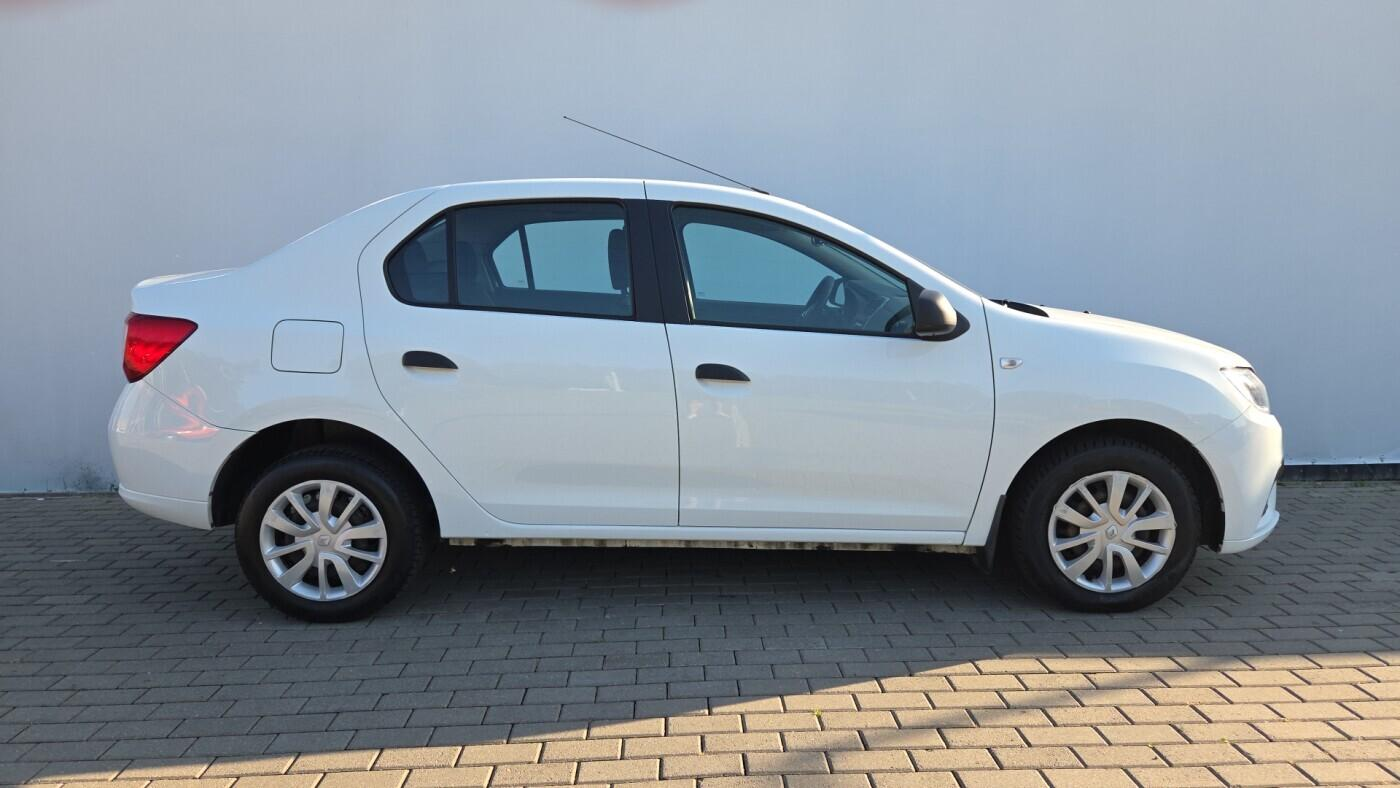Logan_2018: (112, 170, 1276, 624)
